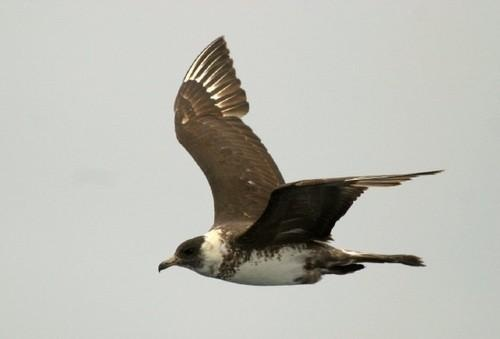bird: (152, 35, 443, 293)
